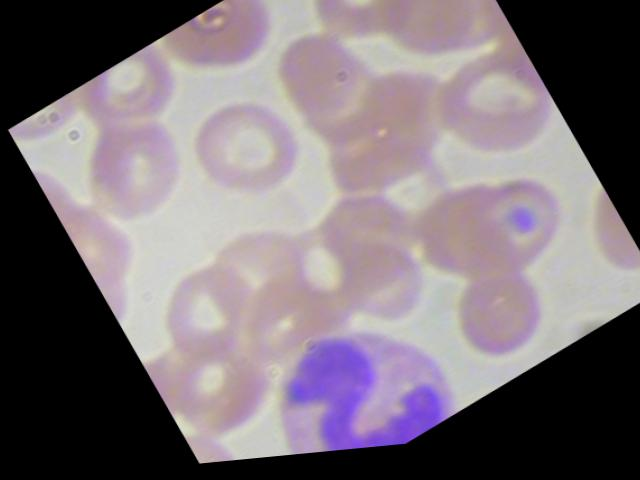Red Blood Cells: (412, 35, 567, 197), (171, 77, 320, 237), (63, 103, 205, 249), (429, 252, 561, 388), (150, 0, 295, 111), (68, 38, 198, 158), (257, 20, 369, 136), (286, 0, 448, 72)
White Blood Cells: (233, 285, 463, 462)
